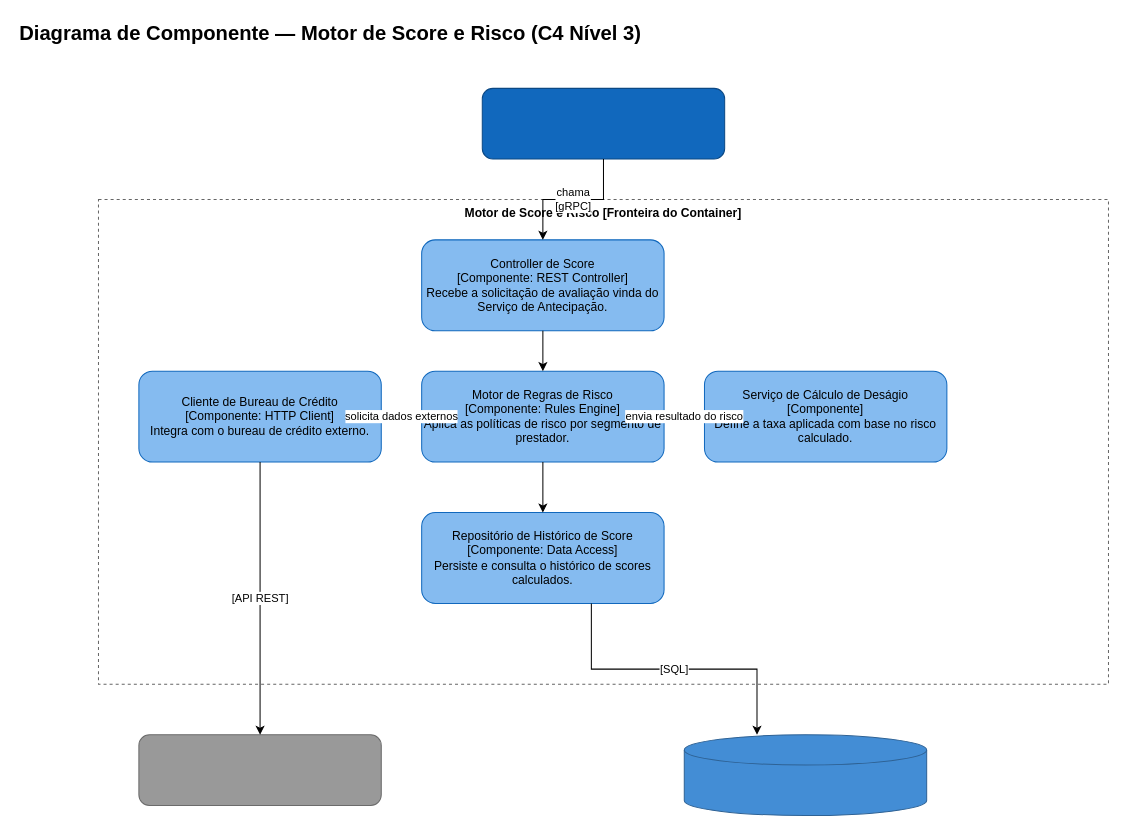
Some shapes in this 1126 by 833 pixel diagram are drawn without their labels. The shapes that lost their labels are listed below. From the top down, each one's centre as x and y in pixels, then its label:
At pixel 603 123: "Serviço de Antecipação [Container]".
At pixel 259 769: "Bureau de Crédito [Sistema Externo]".
At pixel 805 775: "Base de Dados de Recebíveis [Container: PostgreSQL]".
